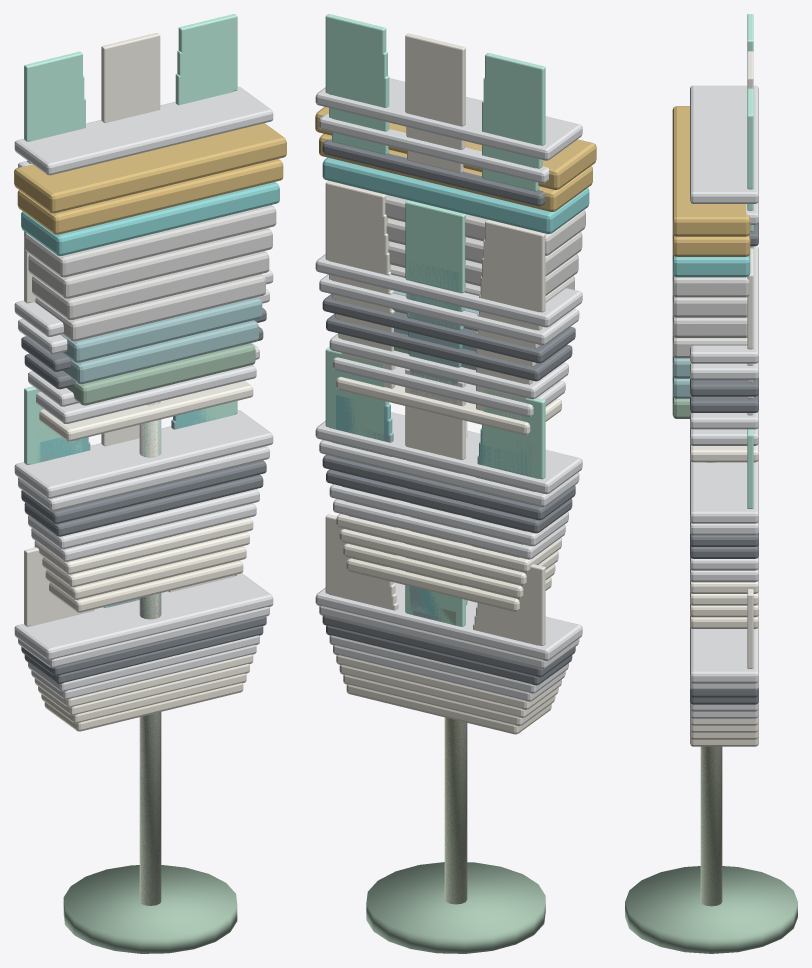
File: Gear07.fbx
3 views of the same model, side by side, from view 1: azimuth 30°, elevation 25°; view 2: azimuth 150°, elevation 25°; view 3: azimuth 270°, elevation 25° (orthographic). The views are drawn at different scales.
Visible parts, largest first — view 1: Gear07_V10_Platinum, Gear07_V1_Sage, Gear07_V10_Gold, Gear07_V10_Glow, Gear07_V4_Linen, Gear07_V5_Platinum, Gear07_V9_Platinum, Gear07_V8_Graphite, Gear07_V9_Gold, Gear07_V7_Graphite, Gear07_V10_Linen, Gear07_V4_Chrome (+15 smaller); view 2: Gear07_V10_Linen, Gear07_V10_Platinum, Gear07_V10_Glow, Gear07_V1_Sage, Gear07_V9_Platinum, Gear07_V8_Graphite, Gear07_V4_Linen, Gear07_V7_Graphite, Gear07_V6_Platinum, Gear07_V5_Platinum, Gear07_V8_Glow, Gear07_V8_Aqua (+21 smaller); view 3: Gear07_V10_Platinum, Gear07_V1_Sage, Gear07_V10_Gold, Gear07_V9_Platinum, Gear07_V8_Graphite, Gear07_V6_Platinum, Gear07_V7_Graphite, Gear07_V5_Platinum, Gear07_V4_Linen, Gear07_V5_Chrome, Gear07_V6_Chrome, Gear07_V9_Gold (+10 smaller).
Part boxes in pixels (x1,y1,x2,y2): Gear07_V10_Platinum: [14, 86, 273, 660]; Gear07_V1_Sage: [63, 343, 255, 953]; Gear07_V10_Gold: [14, 123, 286, 905]; Gear07_V10_Glow: [24, 14, 237, 607]; Gear07_V4_Linen: [34, 381, 253, 707]; Gear07_V5_Platinum: [31, 365, 256, 699]; Gear07_V9_Platinum: [18, 161, 269, 668]; Gear07_V8_Graphite: [21, 308, 266, 676]; Gear07_V9_Gold: [17, 159, 283, 902]; Gear07_V7_Graphite: [24, 327, 263, 683]; Gear07_V10_Linen: [24, 33, 237, 626]; Gear07_V4_Chrome: [35, 274, 265, 905]; Gear07_V10_Linen: [325, 33, 545, 645]; Gear07_V10_Platinum: [315, 78, 582, 660]; Gear07_V10_Glow: [325, 14, 545, 626]; Gear07_V1_Sage: [366, 347, 545, 953]; Gear07_V9_Platinum: [319, 114, 579, 669]; Gear07_V8_Graphite: [322, 139, 575, 677]; Gear07_V4_Linen: [336, 301, 561, 709]; Gear07_V7_Graphite: [326, 313, 572, 685]; Gear07_V6_Platinum: [329, 333, 568, 693]; Gear07_V5_Platinum: [333, 357, 565, 701]; Gear07_V8_Glow: [332, 67, 539, 626]; Gear07_V8_Aqua: [322, 157, 589, 233]; Gear07_V10_Platinum: [690, 85, 758, 683]; Gear07_V1_Sage: [625, 395, 797, 953]; Gear07_V10_Gold: [672, 106, 750, 905]; Gear07_V9_Platinum: [690, 201, 758, 690]; Gear07_V8_Graphite: [690, 222, 758, 697]; Gear07_V6_Platinum: [690, 410, 758, 711]; Gear07_V7_Graphite: [690, 394, 758, 704]; Gear07_V5_Platinum: [690, 427, 758, 718]; Gear07_V4_Linen: [690, 443, 758, 725]; Gear07_V5_Chrome: [672, 314, 747, 905]; Gear07_V6_Chrome: [672, 294, 747, 905]; Gear07_V9_Gold: [672, 233, 750, 903].
Bounding box in the file's own units: 62.56 × 218 × 40.
